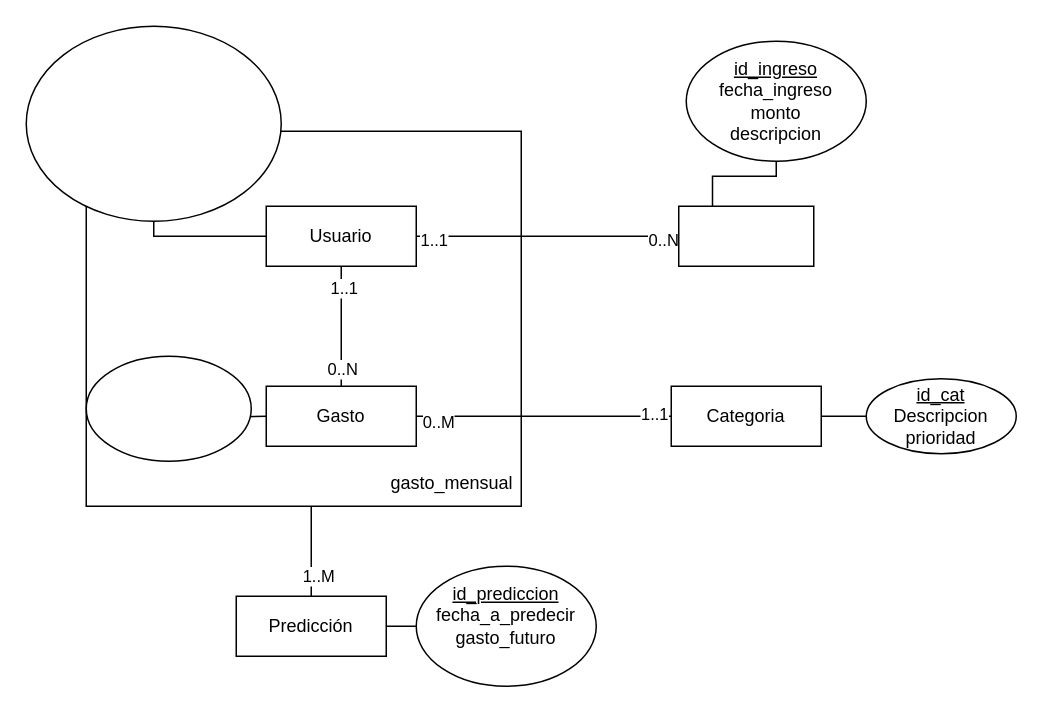
The diagram is 1043 pixels wide and 713 high, and some of its shapes have lost their labels. The box of each missing label's shape, as (x1, y1, x2, y2) in pixels:
id_gasto fecha_gasto monto descripcion tipo: (85, 355, 251, 461)
Ingreso: (677, 205, 814, 266)
nombre apellido username contraseña email dni fecha_nacimiento fecha_registro: (25, 25, 281, 221)
